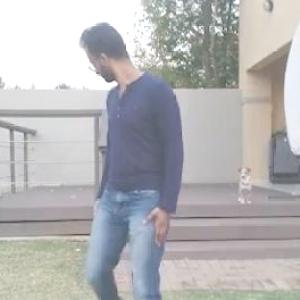follow: (61, 14, 184, 298)
